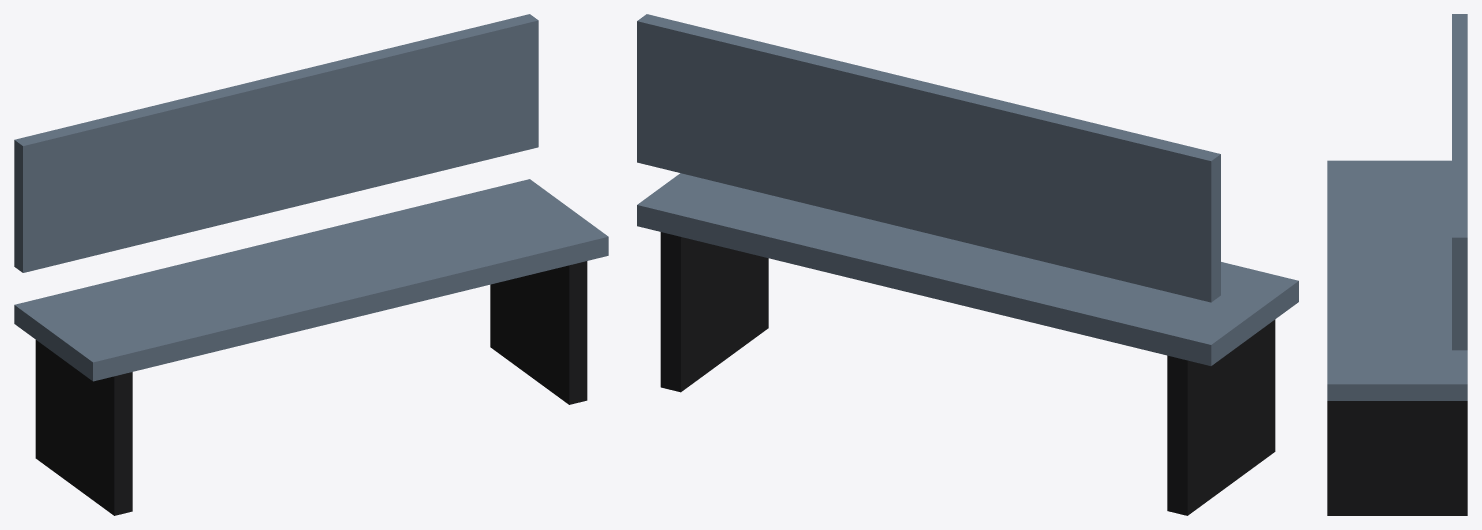
The model's file is bench.glb.
3 views of the same model, side by side, from view 1: azimuth 30°, elevation 25°; view 2: azimuth 150°, elevation 25°; view 3: azimuth 270°, elevation 25° (orthographic). The views are drawn at different scales.
Visible parts, largest first — view 1: bench; view 2: bench; view 3: bench.
Boxes of the visible parts, x1,y1,x2,y2 form: bench: (14,14,608,515); bench: (637,14,1298,515); bench: (1327,14,1467,515).
Size of the model in its own units: 1.7 by 1.02 by 0.45.
